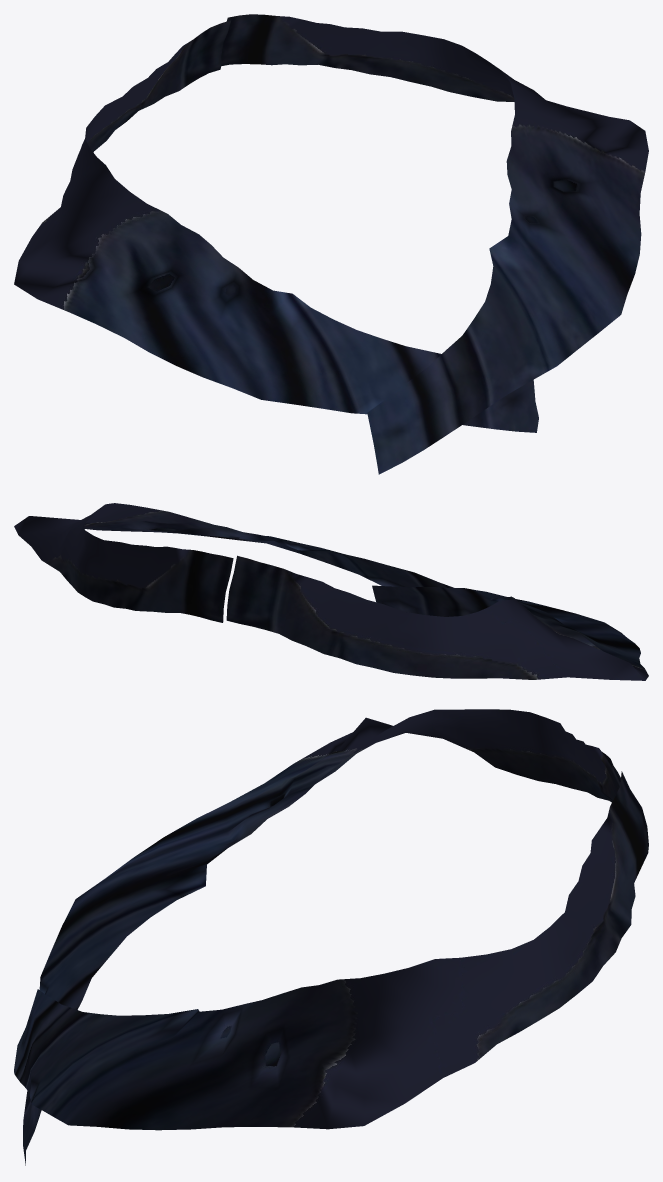
File: eri.glb
The picture shows the model from 3 angles, top to bottom: view 1: azimuth 30°, elevation 25°; view 2: azimuth 150°, elevation 25°; view 3: azimuth 270°, elevation 25°; orthographic projection. The views are drawn at different scales.
Visible parts, largest first — view 1: Spine2; view 2: Spine2; view 3: Spine2.
Part boxes in pixels (bbox=[...]): Spine2: bbox=[14, 14, 648, 474]; Spine2: bbox=[14, 503, 648, 680]; Spine2: bbox=[14, 709, 648, 1165].
Size of the model in its own units: 0.4164 by 0.1683 by 0.2796.
Materials: 1 (1 with a texture image).
